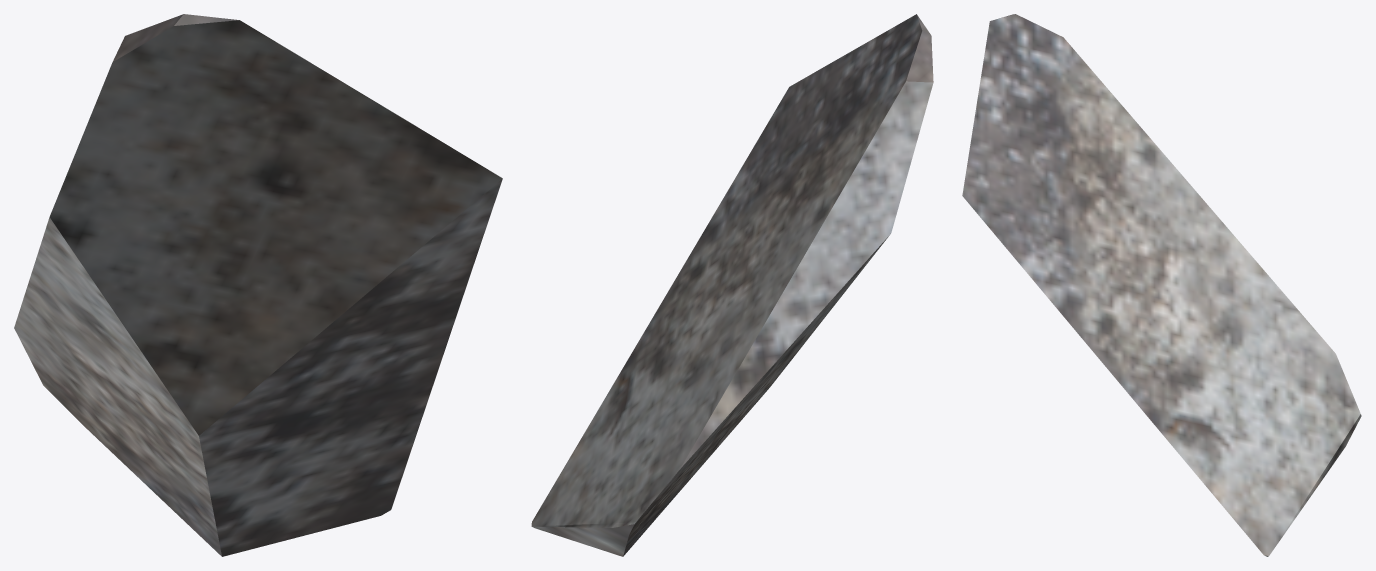
File: Asteroid_Medium_001_02_006_03_006.fbx
3 views of the same model, side by side, from view 1: azimuth 30°, elevation 25°; view 2: azimuth 150°, elevation 25°; view 3: azimuth 270°, elevation 25° (orthographic). The views are drawn at different scales.
Parts seen in each view (by area): view 1: Asteroid_Medium_001_02_006_03_006; view 2: Asteroid_Medium_001_02_006_03_006; view 3: Asteroid_Medium_001_02_006_03_006.
Part boxes in pixels (x1,y1,x2,y2): Asteroid_Medium_001_02_006_03_006: (14,14,502,556); Asteroid_Medium_001_02_006_03_006: (531,14,933,556); Asteroid_Medium_001_02_006_03_006: (962,14,1361,556).
Size of the model in its own units: 2.95 by 4.63 by 3.86.
